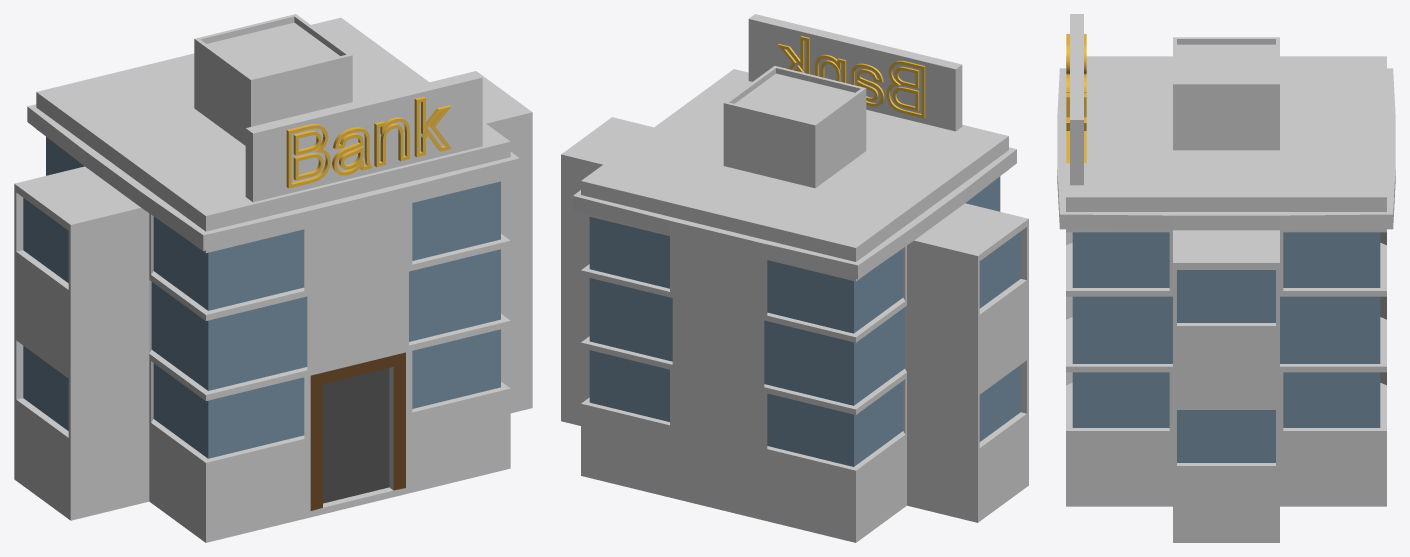
Rendered from bank.glb.
The picture shows the model from 3 angles, left to right: view 1: azimuth 30°, elevation 25°; view 2: azimuth 150°, elevation 25°; view 3: azimuth 270°, elevation 25°; orthographic projection. The views are drawn at different scales.
Parts seen in each view (by area): view 1: Box001; view 2: Box001; view 3: Box001.
Part boxes in pixels (bbox=[...]): Box001: bbox=[14, 14, 532, 542]; Box001: bbox=[561, 14, 1028, 542]; Box001: bbox=[1057, 14, 1395, 542].
Size of the model in its own units: 78.84 by 64.7 by 52.84.
